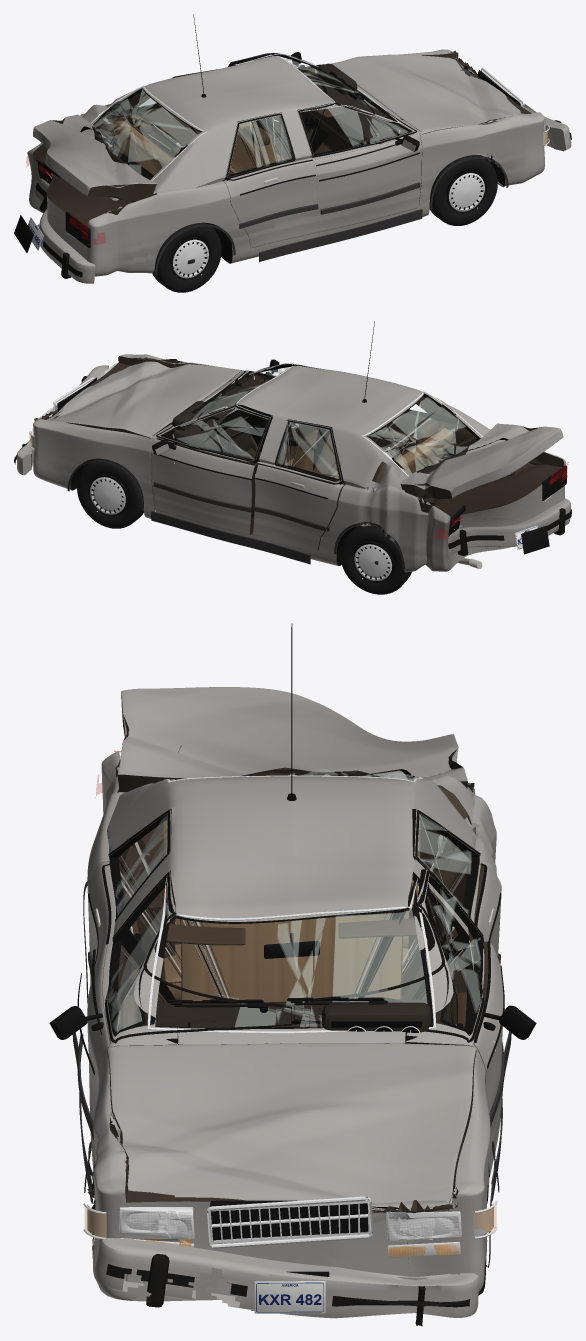
Rendered from sedan87_rear_corner_d1.glb.
3 views of the same model, one above another, from view 1: azimuth 30°, elevation 25°; view 2: azimuth 150°, elevation 25°; view 3: azimuth 270°, elevation 25° (orthographic). The views are drawn at different scales.
Parts seen in each view (by area): view 1: Body, Hood, Door_FR, Interior, Door_RR, Trunk, Glass, Wheel_FR_mesh, Wheel_RR_mesh, Trim, Ends, Bumper_R (+6 smaller); view 2: Body, Door_FL, Hood, Interior, Door_RL, Trunk, Glass, Wheel_FL_mesh, Wheel_RL_mesh, Trim, Bumper_R, Ends (+8 smaller); view 3: Body, Hood, Interior, Trunk, Ends, Bumper_F, Glass, Door_FL, Door_FR, Trim_FR, Door_RL, Trim_FL (+10 smaller).
Boxes of the visible parts, x1,y1,x2,y2 form: Body: (27,49,544,276); Hood: (330,54,521,134); Door_FR: (297,103,422,231); Interior: (113,63,402,193); Door_RR: (223,112,318,247); Trunk: (33,114,156,201); Glass: (91,53,401,200); Wheel_FR_mesh: (429,155,497,225); Wheel_RR_mesh: (152,222,221,292); Trim: (154,14,508,274); Ends: (14,68,549,252); Bumper_R: (35,178,95,283); Body: (33,354,565,572); Door_FL: (151,406,272,535); Hood: (46,361,243,438); Interior: (170,378,452,478); Door_RL: (253,419,345,551); Trunk: (400,423,563,499); Glass: (171,363,482,476); Wheel_FL_mesh: (77,458,144,528); Wheel_RL_mesh: (340,525,411,594); Trim: (67,321,405,568); Bumper_R: (448,498,571,556); Ends: (29,363,566,554); Body: (87,751,496,1301); Hood: (107,1043,476,1213); Interior: (136,820,447,1044); Trunk: (117,687,467,792); Ends: (83,1196,497,1313); Bumper_F: (94,1238,479,1326); Glass: (147,769,435,1033); Door_FL: (406,869,503,1177); Door_FR: (87,870,177,1167); Trim_FR: (49,872,291,1140); Door_RL: (412,809,501,1026); Trim_FL: (293,870,536,1127).
Size of the model in its own units: 4.92 by 2.17 by 2.09.
33 materials, 5 textured.
